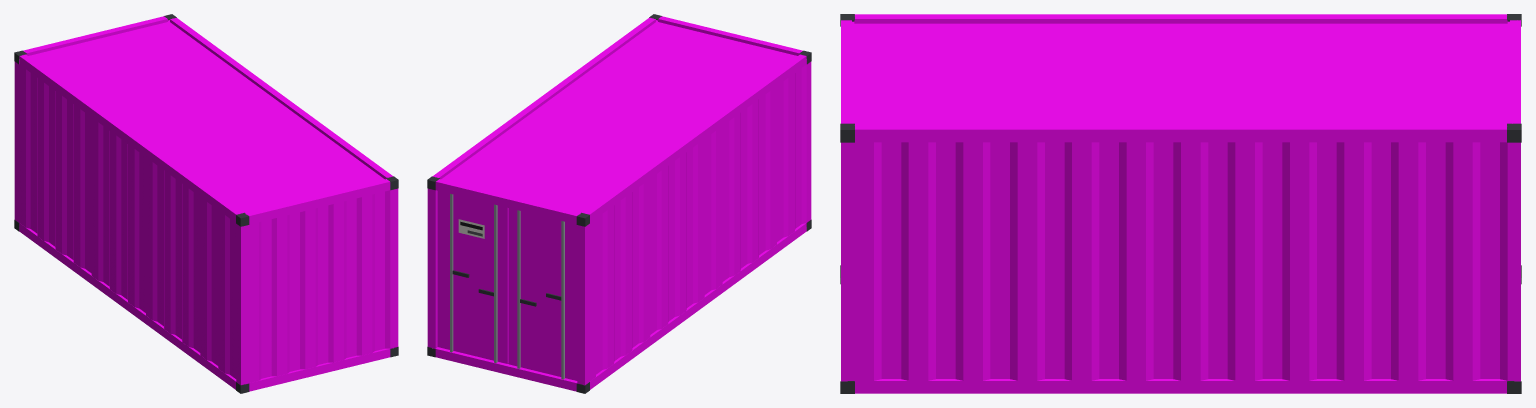
Rendered from prop_container.glb.
The picture shows the model from 3 angles, left to right: view 1: azimuth 30°, elevation 25°; view 2: azimuth 150°, elevation 25°; view 3: azimuth 270°, elevation 25°; orthographic projection. The views are drawn at different scales.
Visible parts, largest first — view 1: prop_container__mesh; view 2: prop_container__mesh; view 3: prop_container__mesh.
Boxes of the visible parts, x1=… form: prop_container__mesh: x1=14, y1=14, x2=398, y2=393; prop_container__mesh: x1=427, y1=14, x2=811, y2=393; prop_container__mesh: x1=840, y1=14, x2=1521, y2=393.
Size of what is drawn, in the model's own units: 2.44 by 2.59 by 6.06.
Materials: 1 (1 with a texture image).
